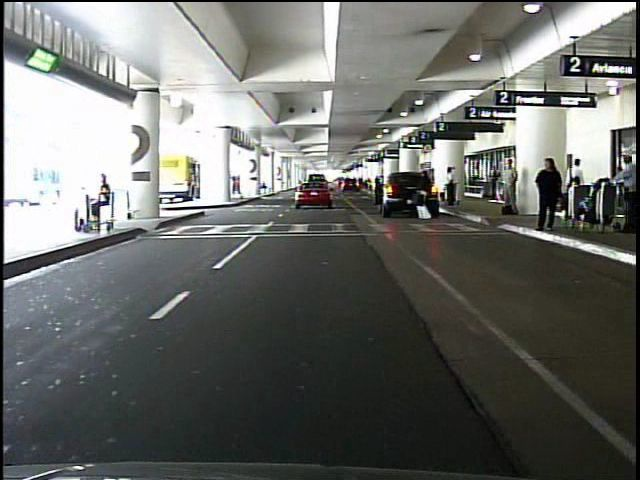person: (534, 154, 560, 235), (88, 170, 112, 225), (565, 157, 584, 212), (418, 167, 434, 222), (445, 166, 458, 208), (488, 161, 500, 201)
